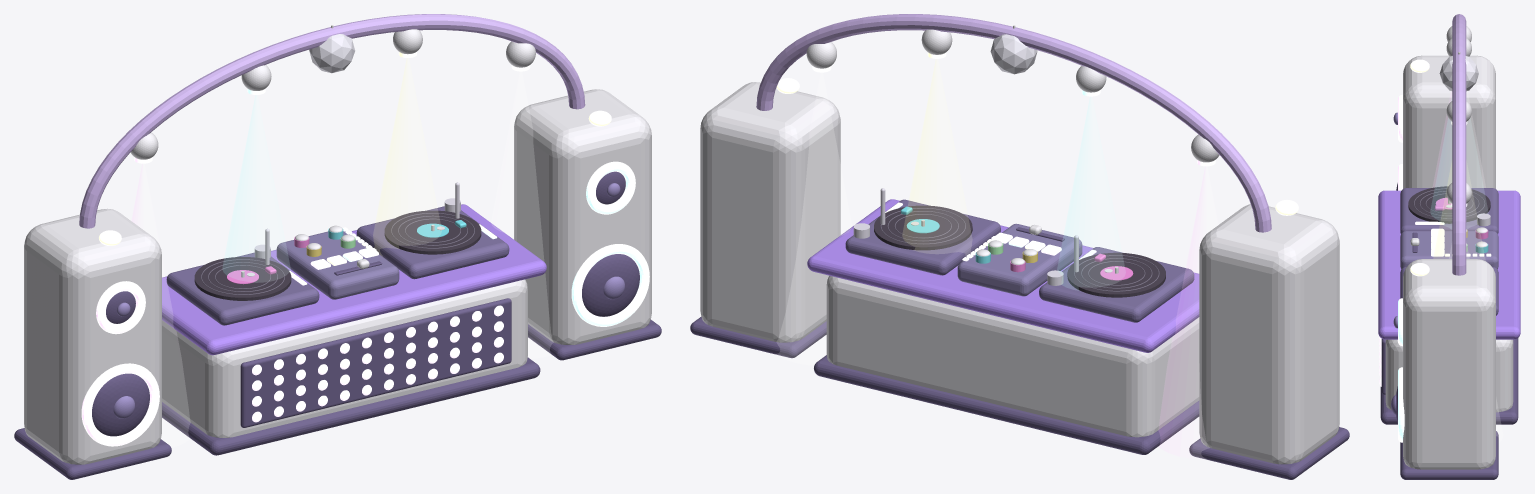
File: dj-set.glb
The picture shows the model from 3 angles, left to right: view 1: azimuth 30°, elevation 25°; view 2: azimuth 150°, elevation 25°; view 3: azimuth 270°, elevation 25°; orthographic projection. The views are drawn at different scales.
Parts seen in each view (by area): view 1: speaker_l, speaker_r, front_panel, booth, booth_top, arch, beam_2, beam_3, beam_1, booth_base, mixer, beam_0 (+13 smaller); view 2: speaker_l, booth, speaker_r, booth_top, arch, beam_3, beam_2, beam_1, beam_0, booth_base, mixer, deck_l (+6 smaller); view 3: speaker_r, speaker_l, booth_top, arch, booth, beam_1, mixer, vinyl_l, beam_2, deck_l, speaker_foot_r, booth_base (+14 smaller).
Part boxes in pixels (box(x1,y1,x2,y2)): speaker_l: box(24, 208, 161, 464); speaker_r: box(514, 89, 651, 344); front_panel: box(240, 298, 511, 427); booth: box(162, 279, 527, 437); booth_top: box(162, 204, 546, 355); arch: box(79, 14, 585, 228); beam_2: box(373, 58, 441, 255); beam_3: box(491, 72, 553, 358); beam_1: box(223, 95, 290, 282); booth_base: box(162, 357, 540, 455); mixer: box(276, 231, 399, 299); beam_0: box(132, 164, 189, 447); speaker_l: box(1199, 204, 1339, 464); booth: box(826, 275, 1199, 437); speaker_r: box(700, 82, 840, 342); booth_top: box(807, 199, 1199, 352); arch: box(756, 14, 1271, 232); beam_3: box(776, 73, 851, 364); beam_2: box(903, 59, 971, 267); beam_1: box(1057, 97, 1125, 289); beam_0: box(1158, 167, 1217, 458); booth_base: box(814, 355, 1199, 454); mixer: box(957, 223, 1082, 296); deck_l: box(1039, 247, 1194, 322); speaker_r: box(1403, 259, 1495, 469); speaker_l: box(1403, 55, 1495, 188); booth_top: box(1378, 190, 1520, 339); arch: box(1452, 14, 1466, 275); booth: box(1385, 339, 1513, 412); beam_1: box(1431, 119, 1487, 221); mixer: box(1400, 231, 1498, 269); vinyl_l: box(1408, 186, 1490, 223); beam_2: box(1434, 165, 1484, 260); deck_l: box(1400, 188, 1498, 233); speaker_foot_r: box(1400, 431, 1498, 479); booth_base: box(1380, 338, 1518, 424).
Size of the model in its own units: 5.95 by 3.44 by 1.45.
